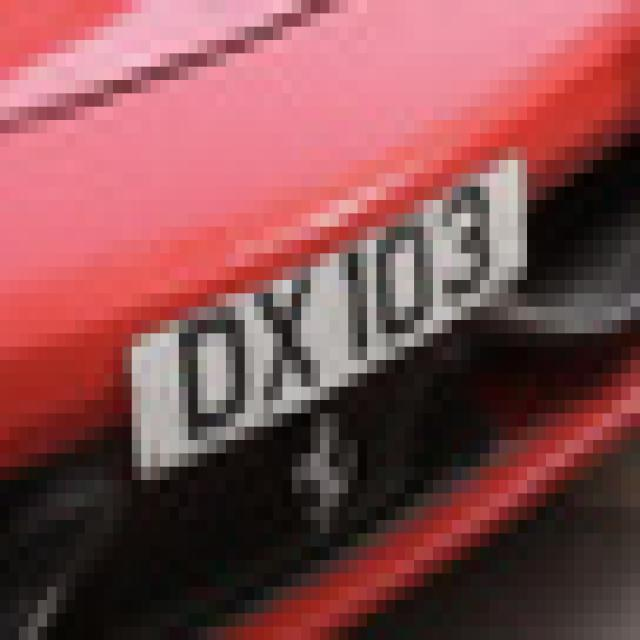0: (377, 215, 434, 348)
1: (334, 219, 374, 373)
3: (434, 163, 497, 300)
D: (170, 288, 254, 450)
X: (252, 264, 324, 418)
